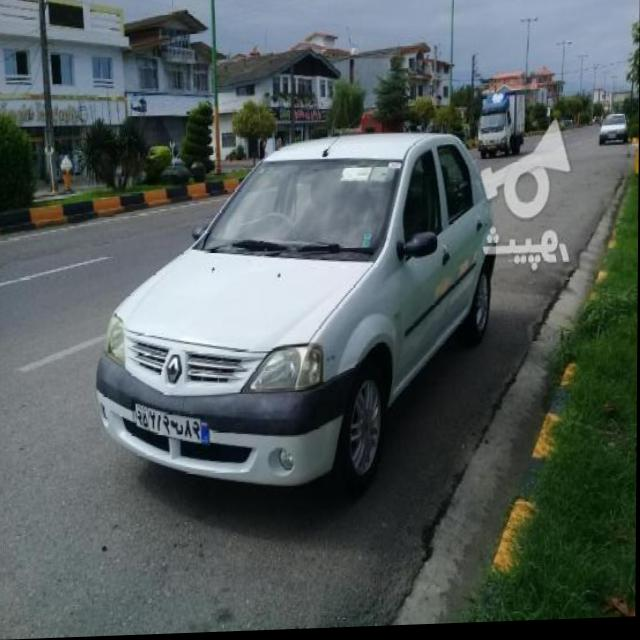licence: (133, 402, 212, 450)
